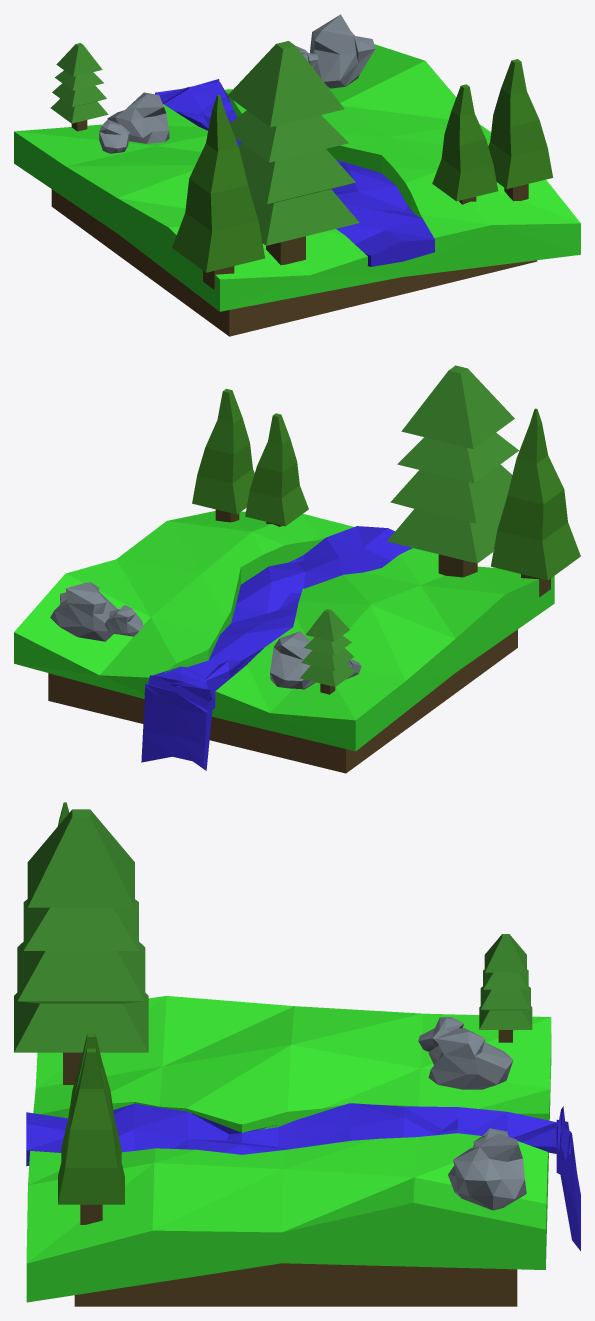
File: island.glb
3 renders of one model, top to bottom at view 1: azimuth 30°, elevation 25°; view 2: azimuth 150°, elevation 25°; view 3: azimuth 270°, elevation 25°, orthographic. The views are drawn at different scales.
Visible parts, largest first — view 1: Grass, Cube.003, Cube.002, Ground, River, Cube, Cube.001, Cube.004, Icosphere.002, Icosphere, Icosphere.001; view 2: Grass, Cube.003, River, Ground, Cube.002, Cube, Cube.001, Cube.004, Icosphere.002, Icosphere, Icosphere.003; view 3: Grass, Cube.003, River, Ground, Cube, Cube.004, Icosphere.002, Icosphere, Cube.001, Icosphere.001.
Part boxes in pixels (box(x1,y1,x2,y2)): Grass: box(14, 44, 580, 311); Cube.003: box(227, 41, 359, 264); Cube.002: box(172, 95, 264, 289); Ground: box(51, 189, 537, 336); River: box(155, 79, 434, 266); Cube: box(488, 59, 553, 201); Cube.001: box(432, 84, 498, 204); Cube.004: box(50, 43, 108, 131); Icosphere.002: box(310, 14, 375, 88); Icosphere: box(107, 92, 169, 143); Icosphere.001: box(99, 119, 130, 153); Grass: box(14, 511, 554, 751); Cube.003: box(387, 365, 518, 577); River: box(141, 526, 412, 770); Ground: box(48, 629, 517, 773); Cube.002: box(491, 408, 580, 596); Cube: box(192, 388, 254, 522); Cube.001: box(245, 413, 308, 526); Cube.004: box(300, 609, 355, 694); Icosphere.002: box(50, 582, 117, 641); Icosphere: box(270, 631, 315, 689); Icosphere.003: box(105, 605, 143, 636); Grass: box(26, 996, 551, 1302); Cube.003: box(14, 809, 148, 1084); River: box(26, 1103, 580, 1250); Ground: box(74, 1263, 517, 1306); Cube: box(58, 1048, 124, 1224); Cube.004: box(479, 934, 532, 1042); Icosphere.002: box(448, 1133, 526, 1210); Icosphere: box(428, 1028, 513, 1089); Cube.001: box(61, 1033, 121, 1161); Icosphere.001: box(418, 1017, 463, 1051).
Size of the model in its own units: 11.76 by 8.67 by 12.33.
